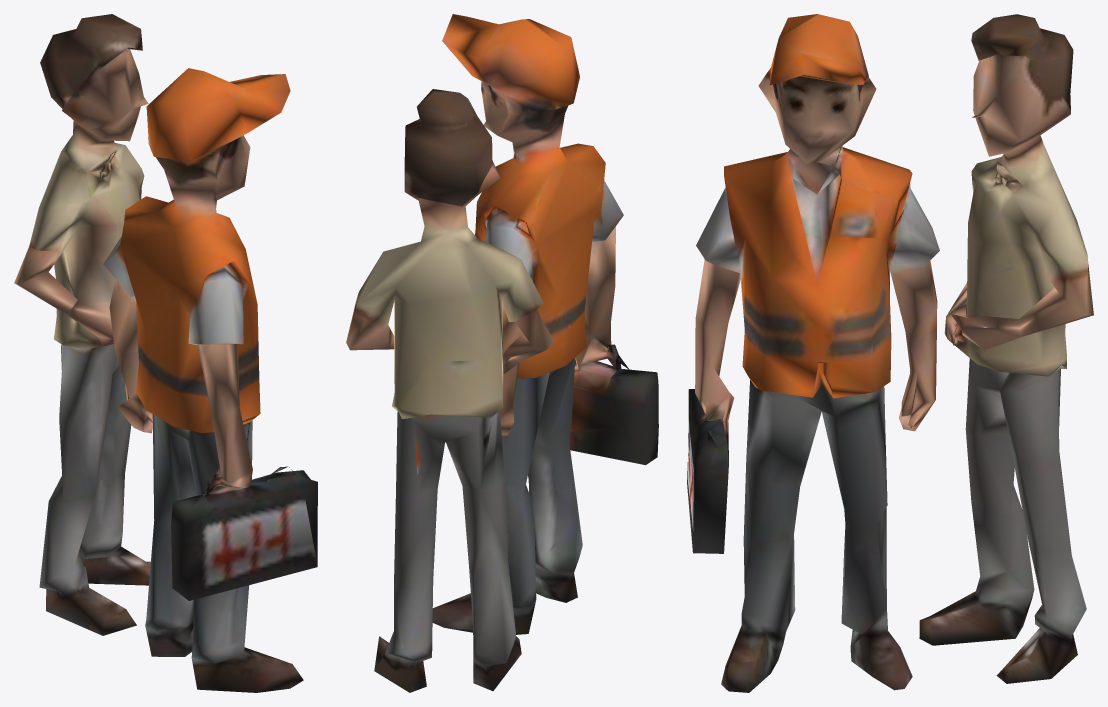
File: marshal-clipboard.glb
3 views of the same model, side by side, from view 1: azimuth 30°, elevation 25°; view 2: azimuth 150°, elevation 25°; view 3: azimuth 270°, elevation 25° (orthographic). The views are drawn at different scales.
Parts seen in each view (by area): view 1: tripo_node_704b82c5-572b-4305-b42d-b1adcc205c7b; view 2: tripo_node_704b82c5-572b-4305-b42d-b1adcc205c7b; view 3: tripo_node_704b82c5-572b-4305-b42d-b1adcc205c7b.
Part boxes in pixels (<box>): tripo_node_704b82c5-572b-4305-b42d-b1adcc205c7b: <box>14,14,317,692</box>; tripo_node_704b82c5-572b-4305-b42d-b1adcc205c7b: <box>346,14,658,692</box>; tripo_node_704b82c5-572b-4305-b42d-b1adcc205c7b: <box>687,14,1093,692</box>.
Bounding box in the file's own units: 0.3226 × 0.9979 × 0.5669.
1 material, 1 textured.
